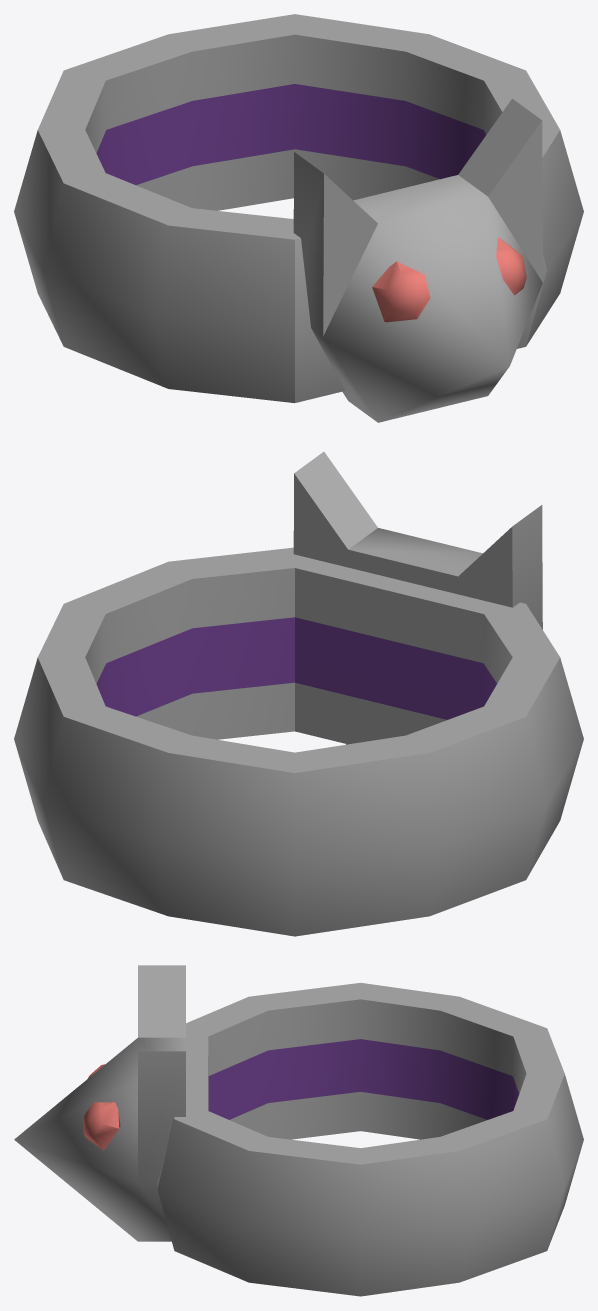
Rendered from LycansRing.fbx.
The picture shows the model from 3 angles, top to bottom: view 1: azimuth 30°, elevation 25°; view 2: azimuth 150°, elevation 25°; view 3: azimuth 270°, elevation 25°; orthographic projection. The views are drawn at different scales.
Parts seen in each view (by area): view 1: LycansRing; view 2: LycansRing; view 3: LycansRing.
Part boxes in pixels (x1,y1,x2,y2): LycansRing: (14,14,583,422); LycansRing: (14,451,583,936); LycansRing: (14,965,583,1296).
Bounding box in the file's own units: 2.38 × 1.18 × 2.89.
